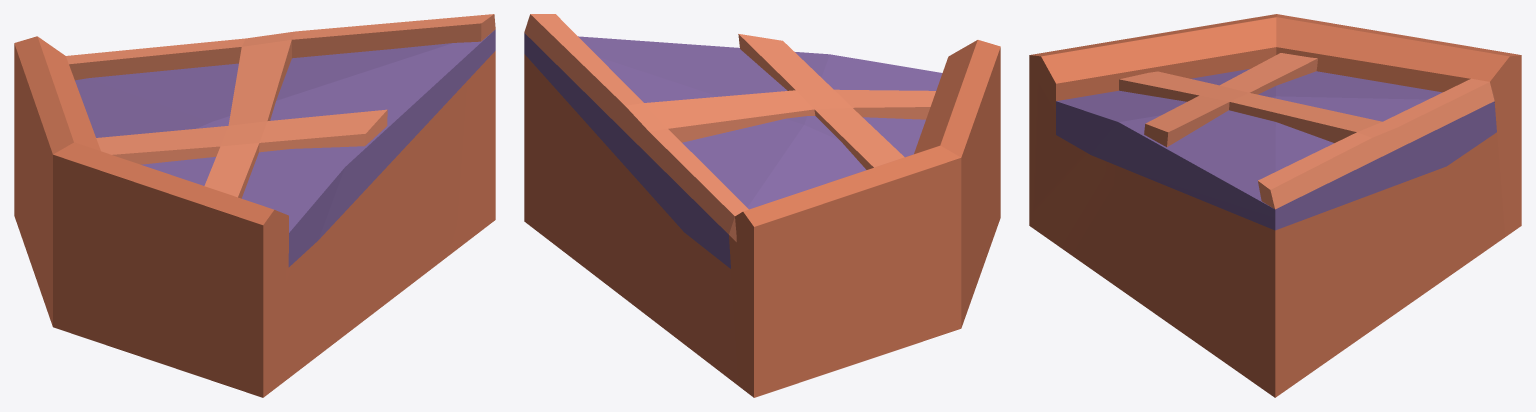
Rendered from Pie_02.fbx.
3 views of the same model, side by side, from view 1: azimuth 30°, elevation 25°; view 2: azimuth 150°, elevation 25°; view 3: azimuth 270°, elevation 25° (orthographic).
Visible parts, largest first — view 1: Pie_02; view 2: Pie_02; view 3: Pie_02.
Part boxes in pixels (x1,y1,x2,y2): Pie_02: (14, 14, 495, 397); Pie_02: (524, 14, 1000, 397); Pie_02: (1029, 14, 1521, 397).
Size of the model in its own units: 14.53 by 6.55 by 14.17.
